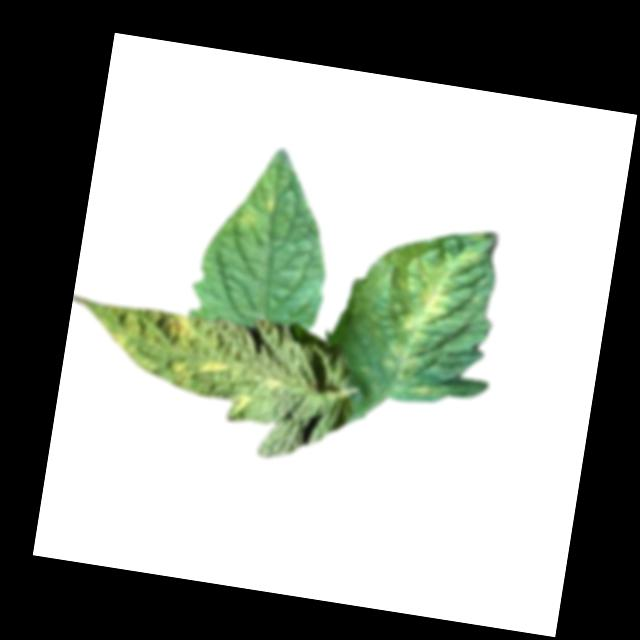Leaf_Mold: (369, 236, 478, 408), (79, 299, 241, 397), (230, 188, 278, 235)
